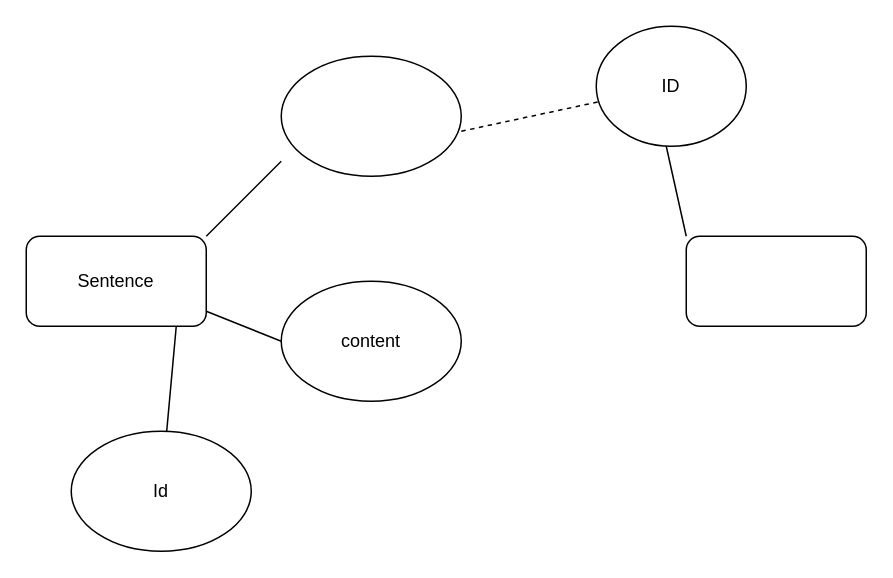
This 893x578 diagram has some shape labels left out. The shapes that lost their labels are listed below. From the top down, each one's centre as x and y in pixels, then its label:
At pixel 370 115: "Origin Id".
At pixel 775 280: "Main Sentence".
